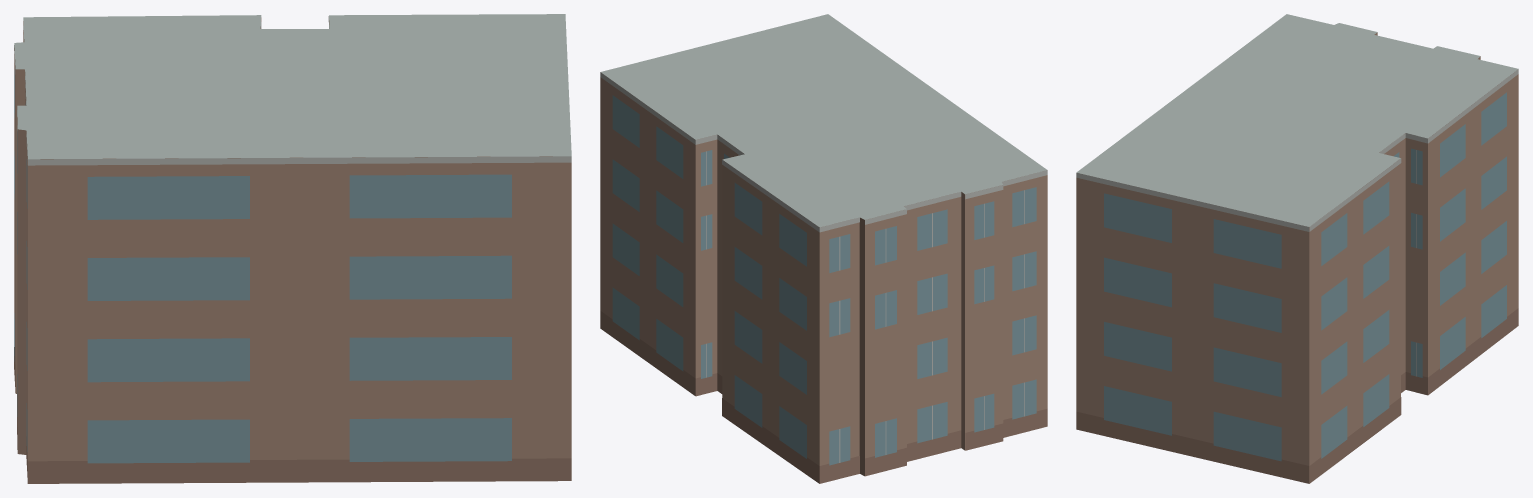
Rendered from survey-upis-32835633.glb.
3 views of the same model, side by side, from view 1: azimuth 30°, elevation 25°; view 2: azimuth 150°, elevation 25°; view 3: azimuth 270°, elevation 25° (orthographic). The views are drawn at different scales.
Parts seen in each view (by area): view 1: survey-upis-32835633.tmp; view 2: survey-upis-32835633.tmp; view 3: survey-upis-32835633.tmp.
Boxes of the visible parts, <box> form: survey-upis-32835633.tmp: <box>14,14,571,483</box>; survey-upis-32835633.tmp: <box>600,14,1047,483</box>; survey-upis-32835633.tmp: <box>1076,14,1518,483</box>.
Bounding box in the file's own units: 22.24 × 12.5 × 19.52.
